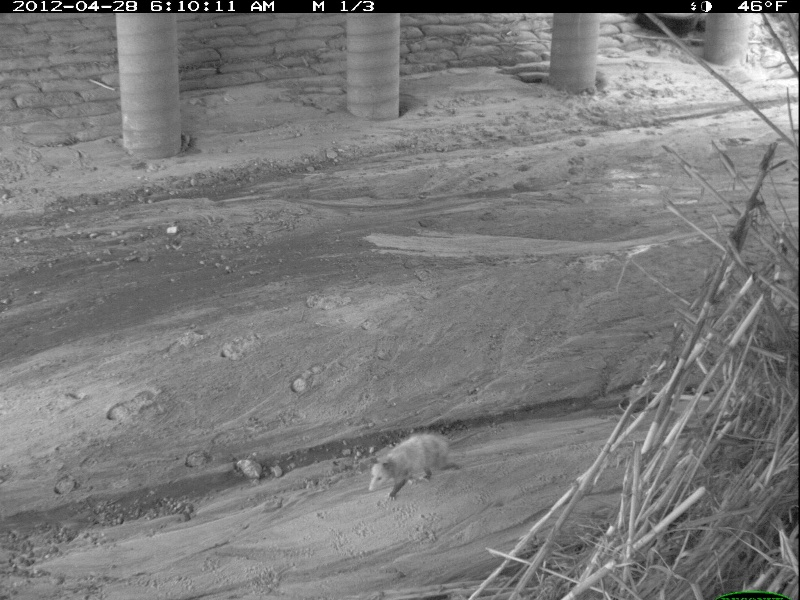opossum: (367, 423, 488, 499)
